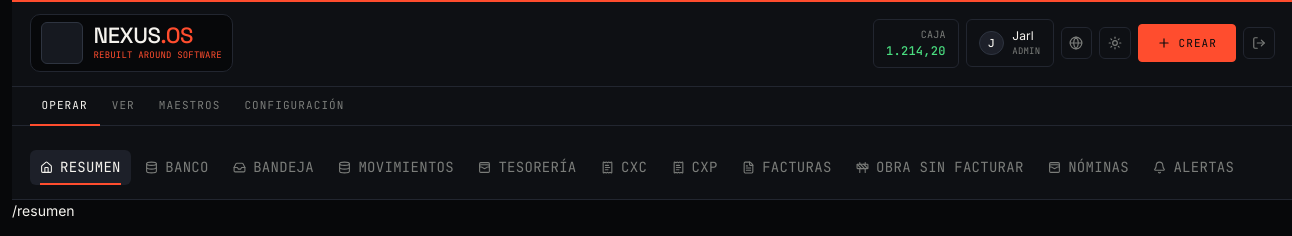
Scenario: Sidebar — group tabs › keeps Banco in Operar and out of Configuración for admin
This screenshot has width=1292, height=236.
Check: the button "Banco" is shown, box [135, 150, 219, 184]
Click the tab "Configuración" at (294, 106), box [232, 87, 356, 126]
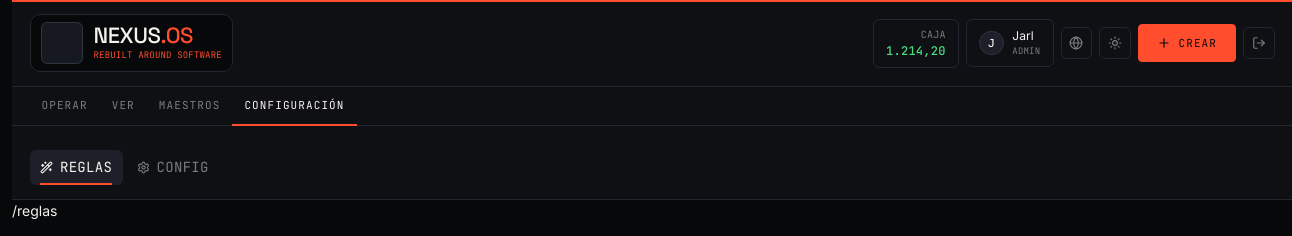
Check: the button "Banco" is gone
Check: the button "Reglas" is shown, box [30, 150, 123, 184]
